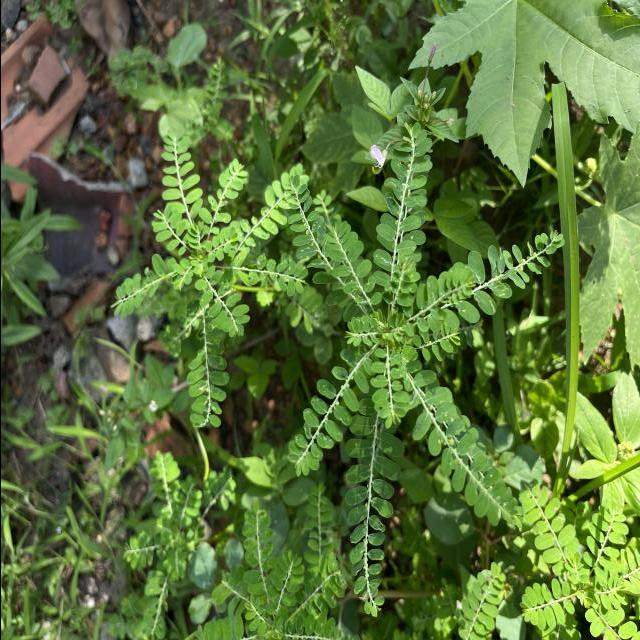Phyllanthus niruri: (414, 386, 517, 534), (340, 422, 400, 621), (284, 349, 368, 480), (371, 122, 433, 290), (466, 226, 558, 318), (519, 474, 579, 573), (322, 214, 379, 311), (406, 259, 474, 336), (282, 174, 328, 286), (108, 254, 175, 322), (160, 120, 202, 220), (193, 268, 247, 344), (199, 156, 246, 237), (367, 350, 407, 430)
